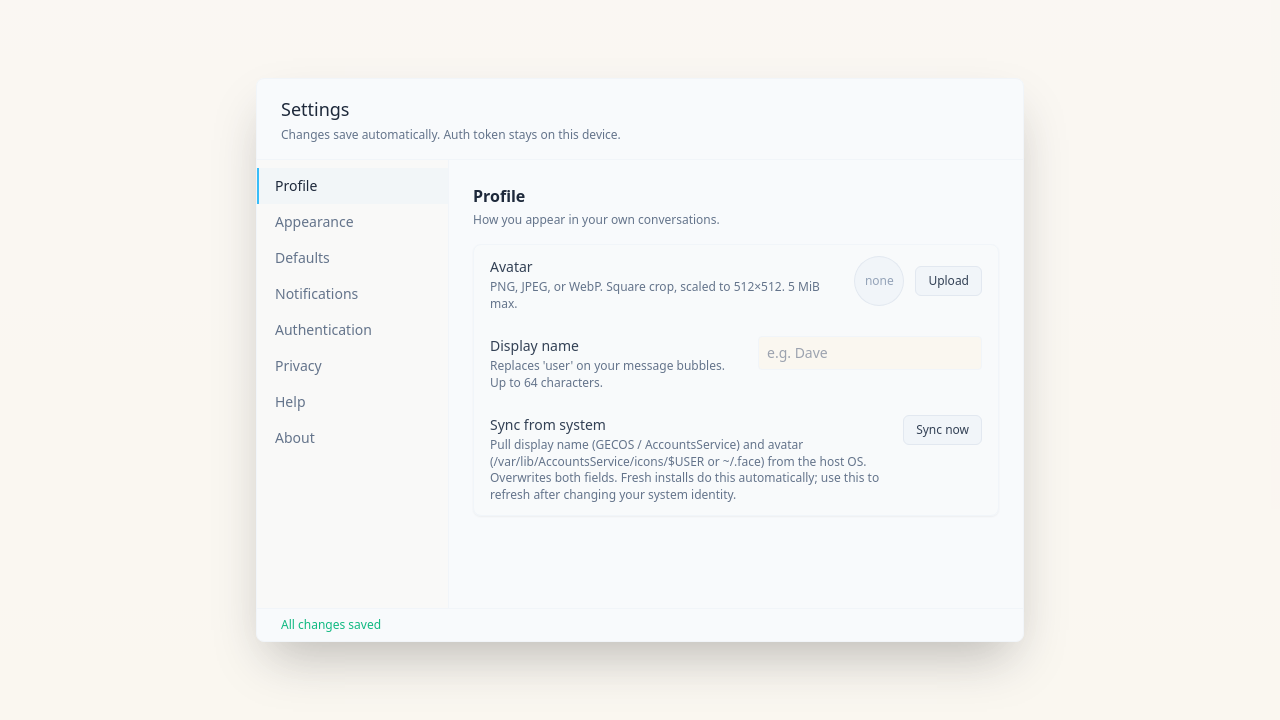
Test case: Settings › navigating to Defaults shows the model + working dir fields seeded from the store
Click the tab with test id "settings-rail-defaults": (352, 258) [257,240,448,276]
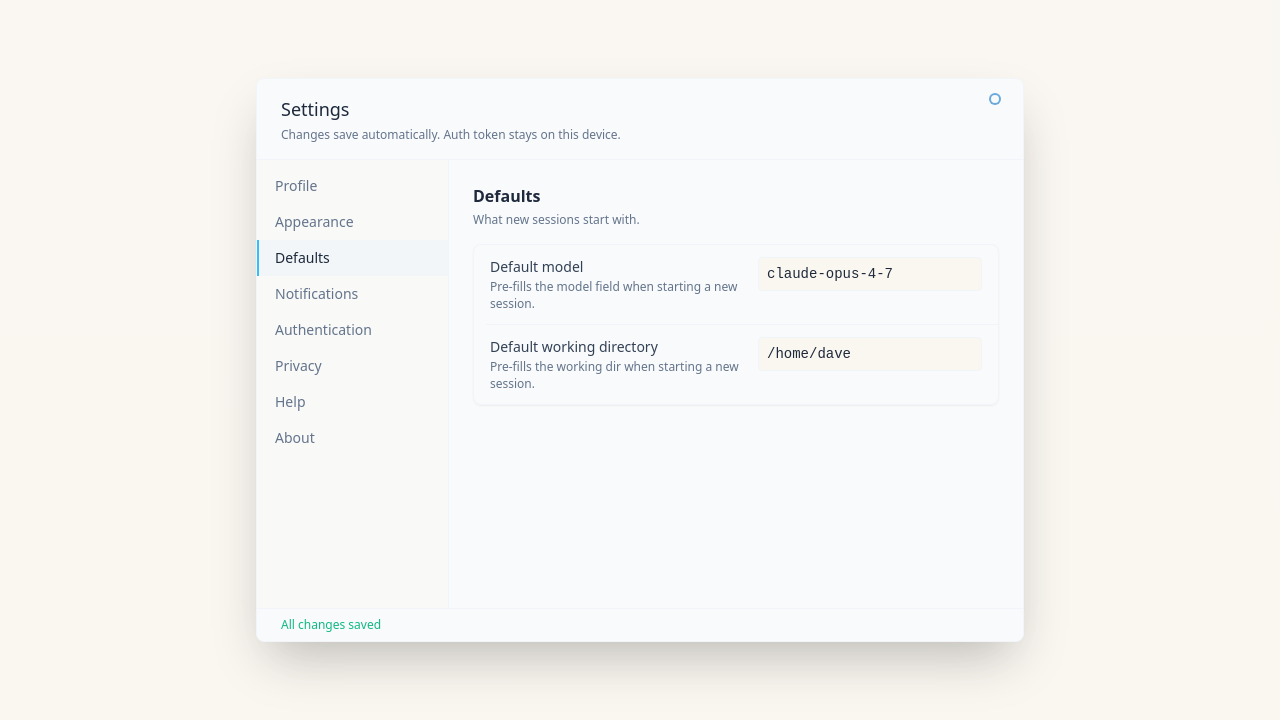
Expected: the element with test id "settings-section-defaults" is shown, [473,244,999,405]
Expected: the field labelled "Default model" holds "claude-opus-4-7", [758,257,982,291]
Expected: the field labelled "Default working directory" holds "/home/dave", [758,337,982,371]
